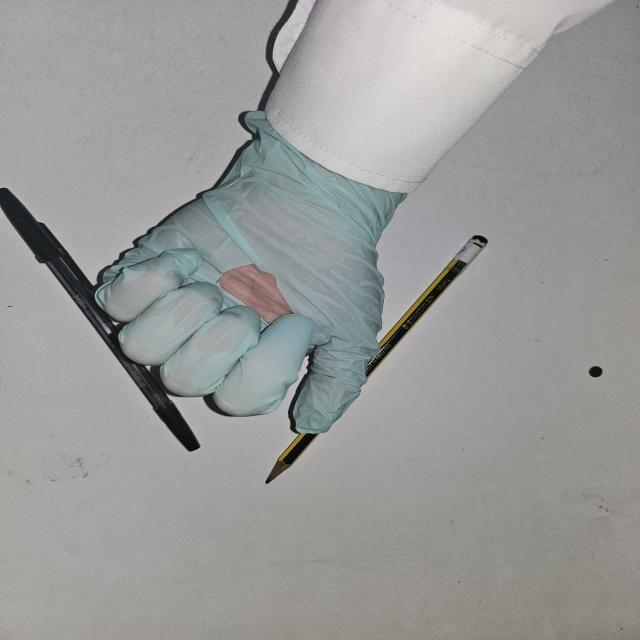gloves_damaged: (88, 105, 408, 438)
